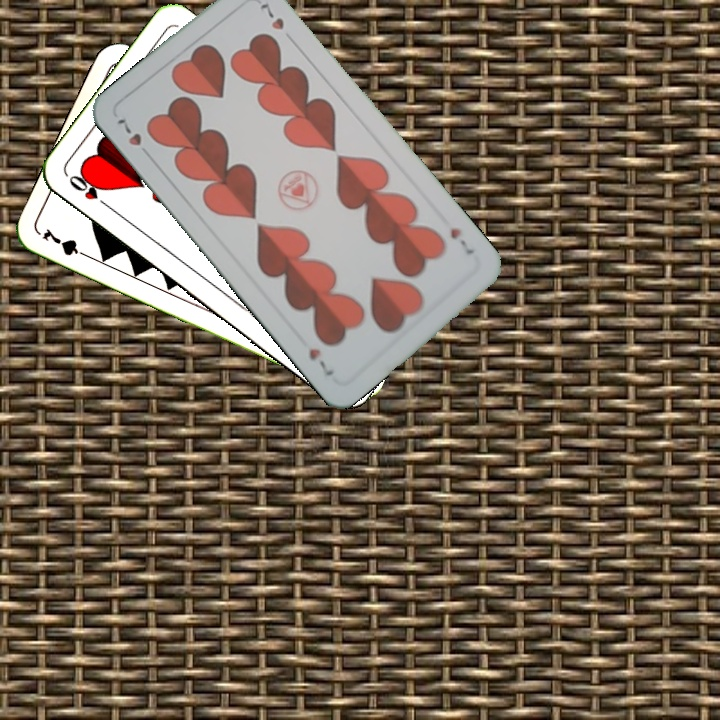G7: (38, 224, 94, 262)
H7: (113, 112, 155, 162), (446, 224, 477, 258)
HO: (65, 170, 115, 212)
